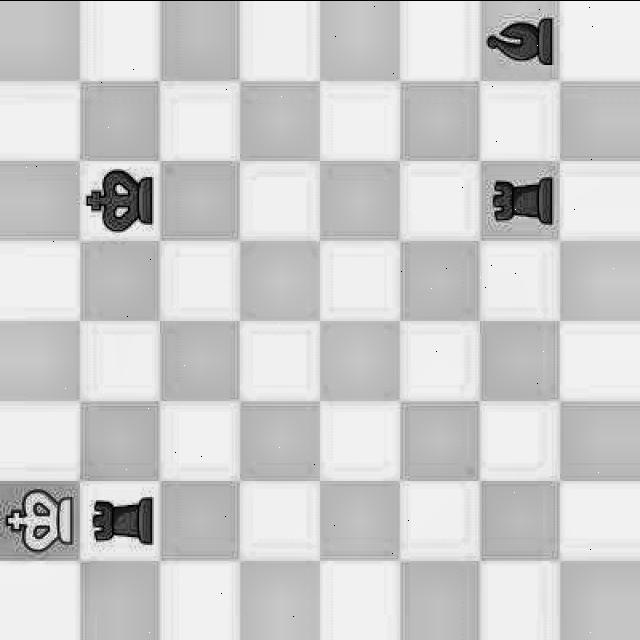black bishop: (481, 1, 556, 78)
black king: (82, 160, 162, 244)
black rook: (480, 162, 562, 240), (85, 483, 157, 560)
white king: (0, 477, 82, 564)
